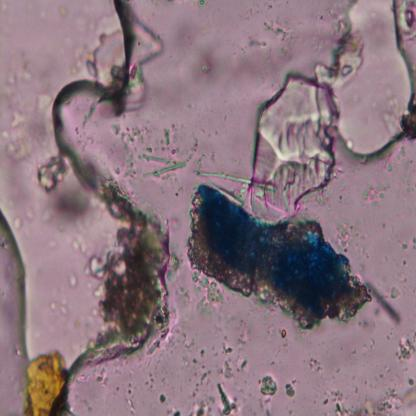Air bubble: (48, 0, 151, 196), (326, 1, 414, 158), (0, 208, 30, 414)
Background material: (246, 76, 338, 226), (89, 216, 174, 354), (0, 58, 59, 164), (85, 30, 159, 89), (32, 160, 95, 218), (179, 12, 222, 90), (26, 352, 68, 415), (329, 388, 416, 415), (133, 145, 189, 182), (209, 335, 252, 381), (246, 20, 292, 62), (365, 282, 405, 327), (193, 276, 229, 318), (72, 94, 96, 148), (184, 342, 212, 388), (114, 123, 153, 151), (362, 177, 390, 205), (215, 380, 237, 415), (398, 1, 416, 38), (394, 336, 416, 364), (280, 373, 297, 401), (339, 228, 359, 251), (258, 372, 278, 395), (46, 299, 70, 318), (304, 354, 324, 374), (191, 396, 212, 415), (12, 211, 34, 229), (62, 271, 82, 290), (72, 231, 88, 253), (274, 325, 288, 341), (172, 403, 185, 416), (154, 393, 166, 404), (194, 0, 208, 8), (400, 242, 410, 251)
Microfibre: (186, 183, 371, 328)
